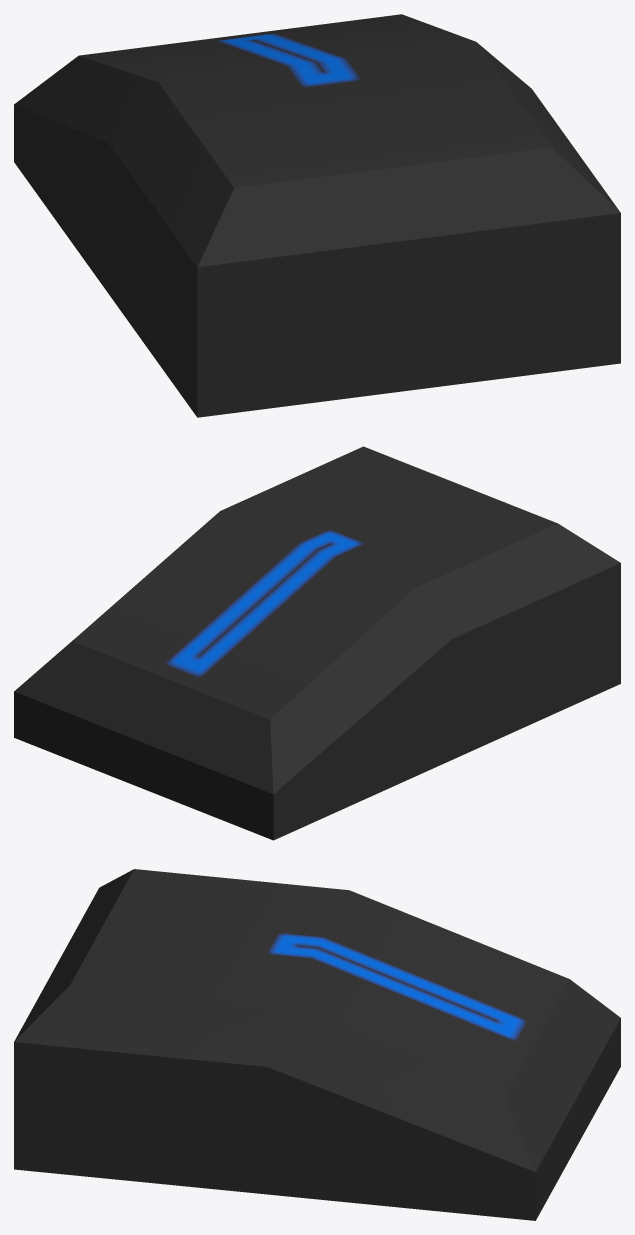
Rendered from raton_ordenador.glb.
The picture shows the model from 3 angles, top to bottom: view 1: azimuth 30°, elevation 25°; view 2: azimuth 150°, elevation 25°; view 3: azimuth 270°, elevation 25°; orthographic projection. The views are drawn at different scales.
Visible parts, largest first — view 1: raton; view 2: raton; view 3: raton.
Part boxes in pixels (box(x1,y1,x2,y2)): raton: box(14, 14, 620, 417); raton: box(14, 446, 620, 840); raton: box(14, 869, 620, 1220).
Bounding box in the file's own units: 0.2079 × 0.0801 × 0.2592.
1 material, 1 textured.
